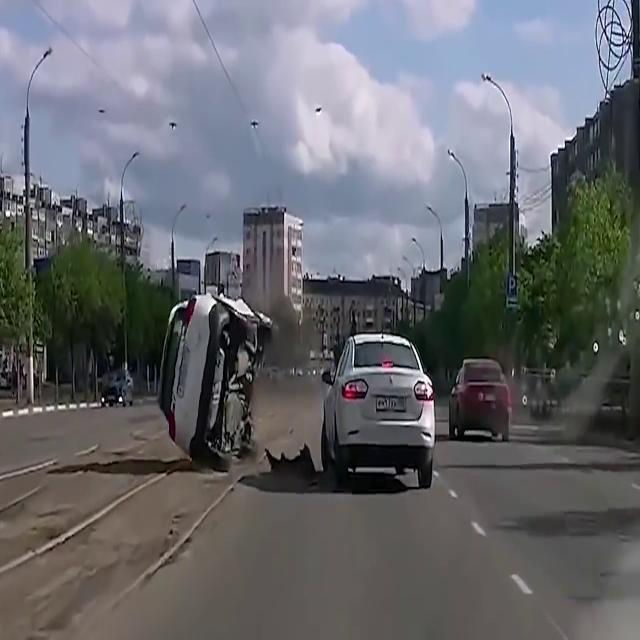accident: (154, 288, 320, 494)
non-accident: (320, 332, 510, 492)
